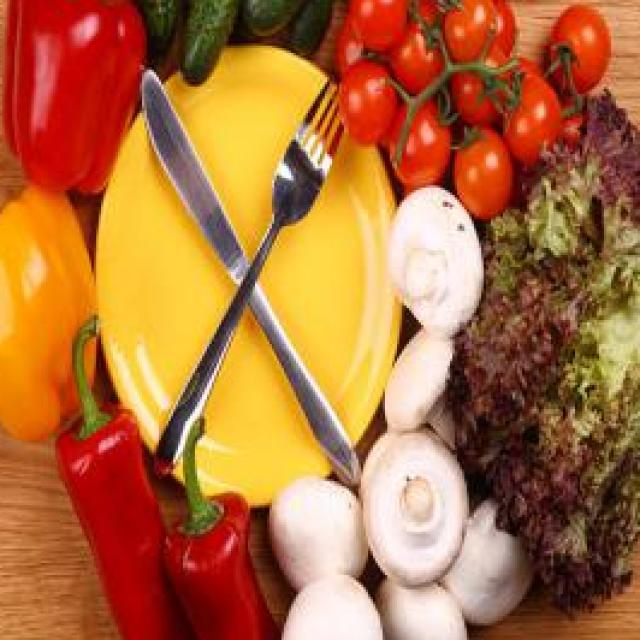knife: (132, 53, 368, 474)
